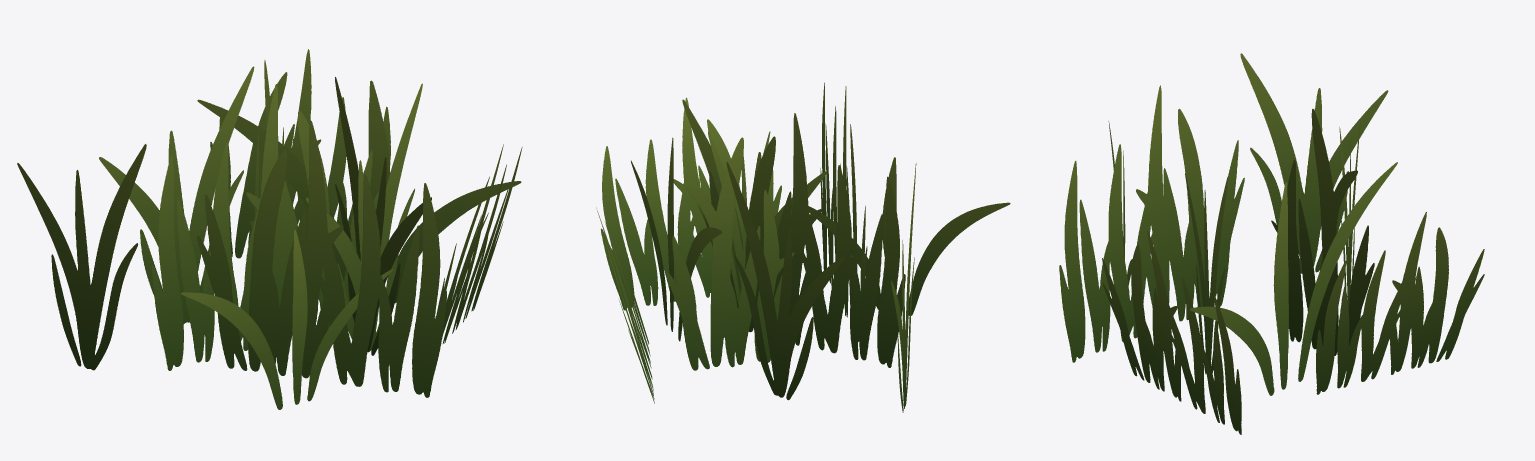
3 renders of one model, left to right at view 1: azimuth 30°, elevation 25°; view 2: azimuth 150°, elevation 25°; view 3: azimuth 270°, elevation 25°, orthographic. The views are drawn at different scales.
Parts seen in each view (by area): view 1: pl-grass-lush-b; view 2: pl-grass-lush-b; view 3: pl-grass-lush-b.
Part boxes in pixels (x1=…): pl-grass-lush-b: x1=17, y1=49, x2=522, y2=409; pl-grass-lush-b: x1=596, y1=82, x2=1010, y2=412; pl-grass-lush-b: x1=1059, y1=53, x2=1484, y2=434.
Size of the model in its own units: 1.36 by 0.8492 by 1.33.
Materials: 1 (1 with a texture image).
